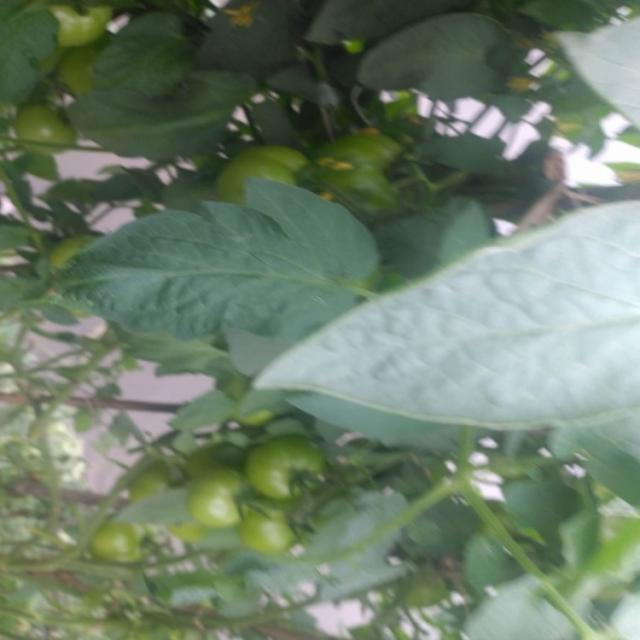tomato: (323, 128, 443, 222), (49, 38, 159, 118), (235, 484, 319, 563), (214, 135, 304, 204), (243, 437, 328, 506), (189, 459, 253, 527), (42, 1, 128, 42), (20, 108, 92, 156), (87, 522, 144, 573), (117, 456, 176, 497)
